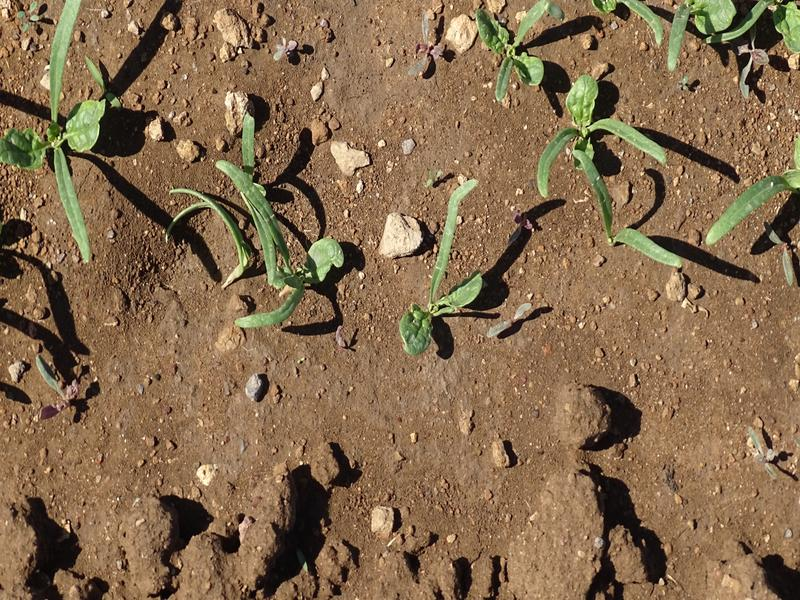Espinaca: (475, 2, 793, 266), (170, 124, 347, 338), (5, 7, 117, 260), (407, 171, 498, 358)
